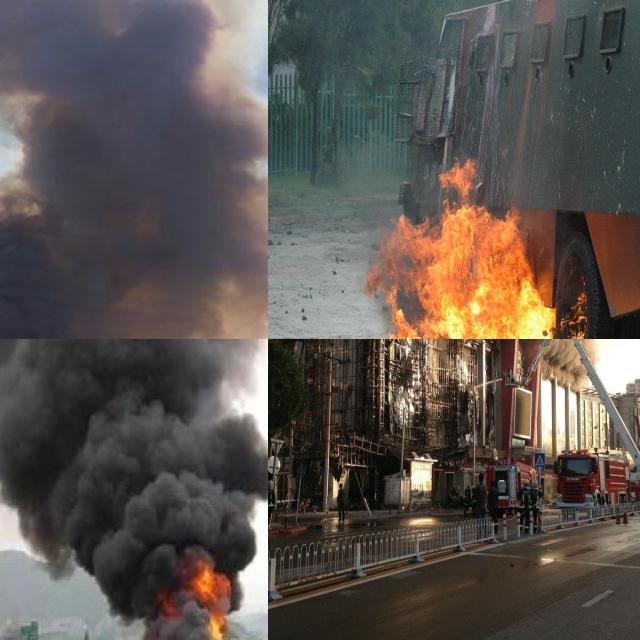fire: (344, 158, 572, 339), (141, 549, 247, 640)
smoke: (0, 0, 268, 339), (0, 339, 268, 636)
